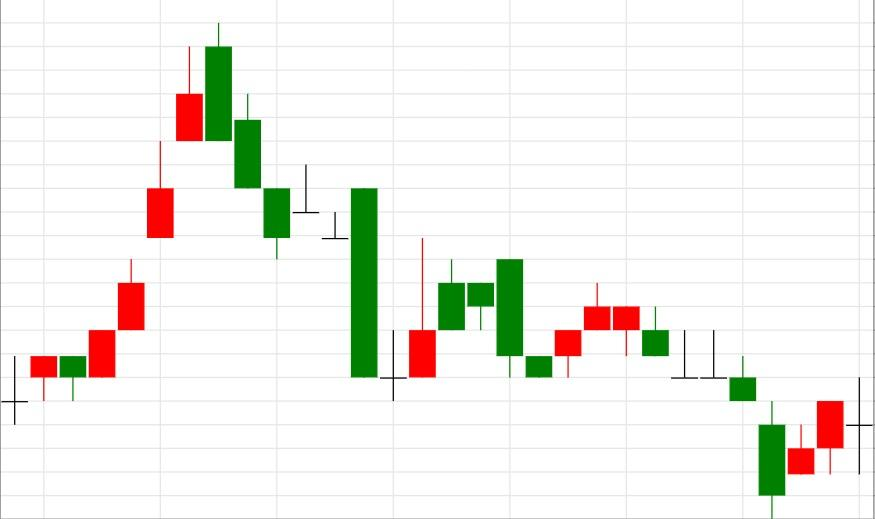bearish_engulfing_fall: (0, 22, 232, 425)
morning_star_rise: (205, 23, 437, 402)
